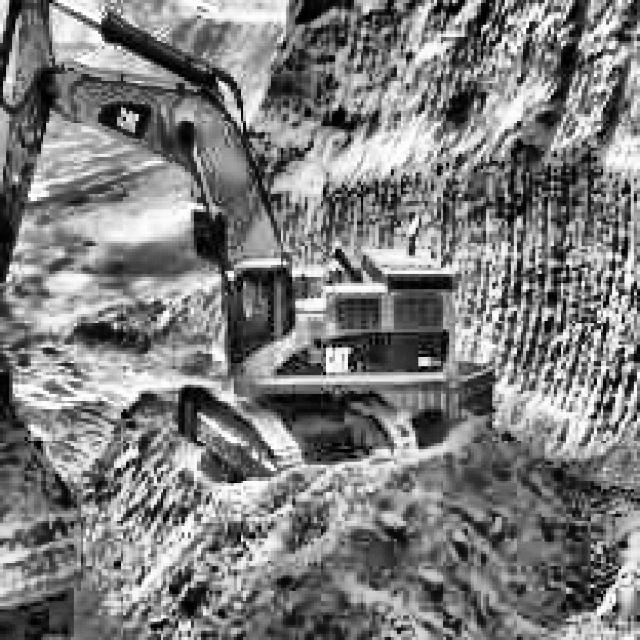dump_truck: (0, 360, 86, 640)
excavator: (0, 0, 495, 486)
